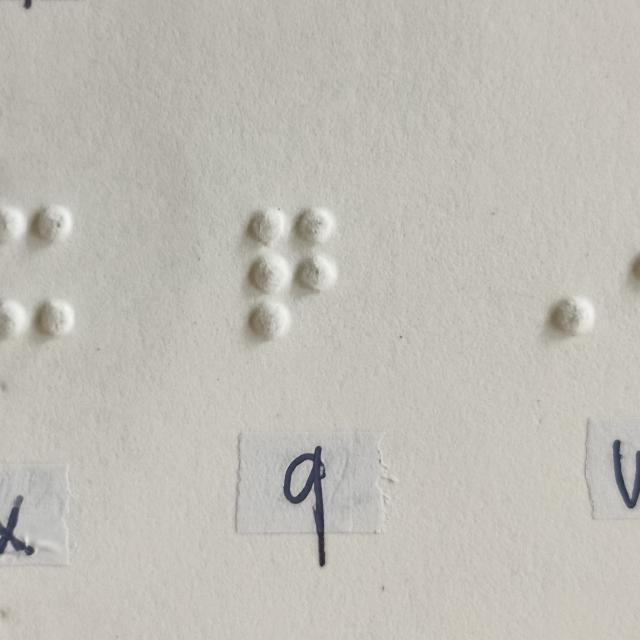letter_q: (250, 207, 336, 341)
